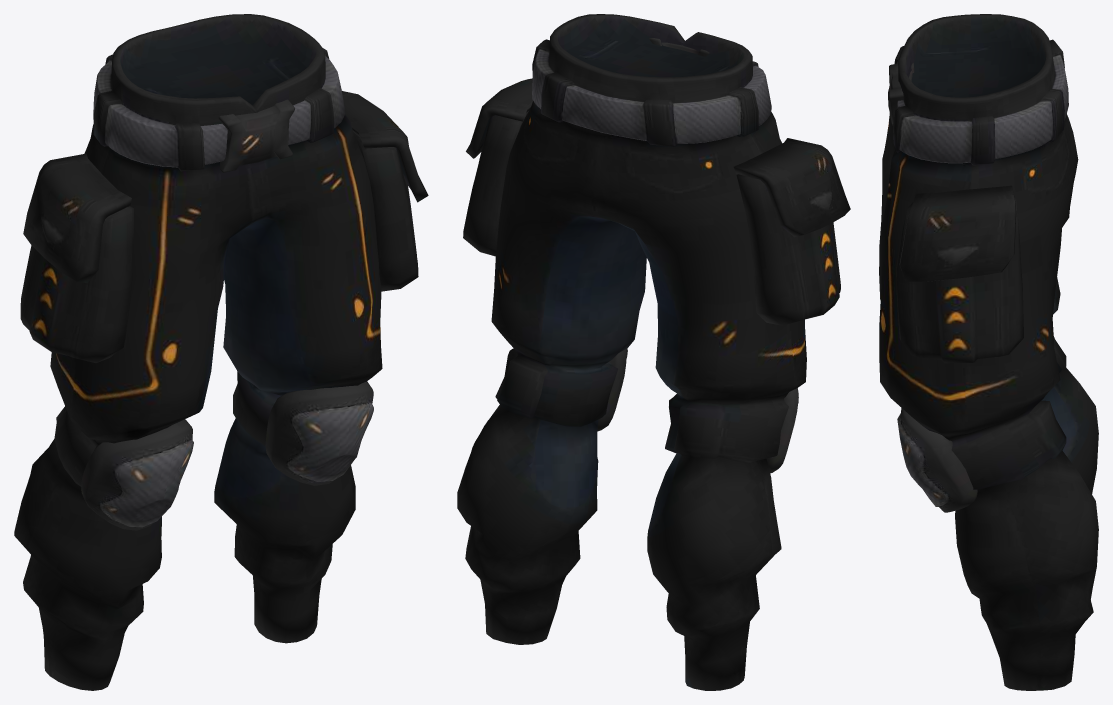
3 renders of one model, left to right at view 1: azimuth 30°, elevation 25°; view 2: azimuth 150°, elevation 25°; view 3: azimuth 270°, elevation 25°, orthographic. The views are drawn at different scales.
Visible parts, largest first — view 1: Wolf3D_Outfit_Bottom.002; view 2: Wolf3D_Outfit_Bottom.002; view 3: Wolf3D_Outfit_Bottom.002.
Boxes of the visible parts, x1=… form: Wolf3D_Outfit_Bottom.002: x1=14, y1=14, x2=428, y2=690; Wolf3D_Outfit_Bottom.002: x1=457, y1=14, x2=850, y2=690; Wolf3D_Outfit_Bottom.002: x1=879, y1=14, x2=1098, y2=690.
Size of the model in its own units: 0.5603 by 0.8964 by 0.3041.
1 material, 1 textured.
